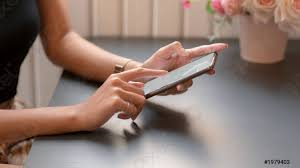Cell Phone: (138, 52, 219, 98)
